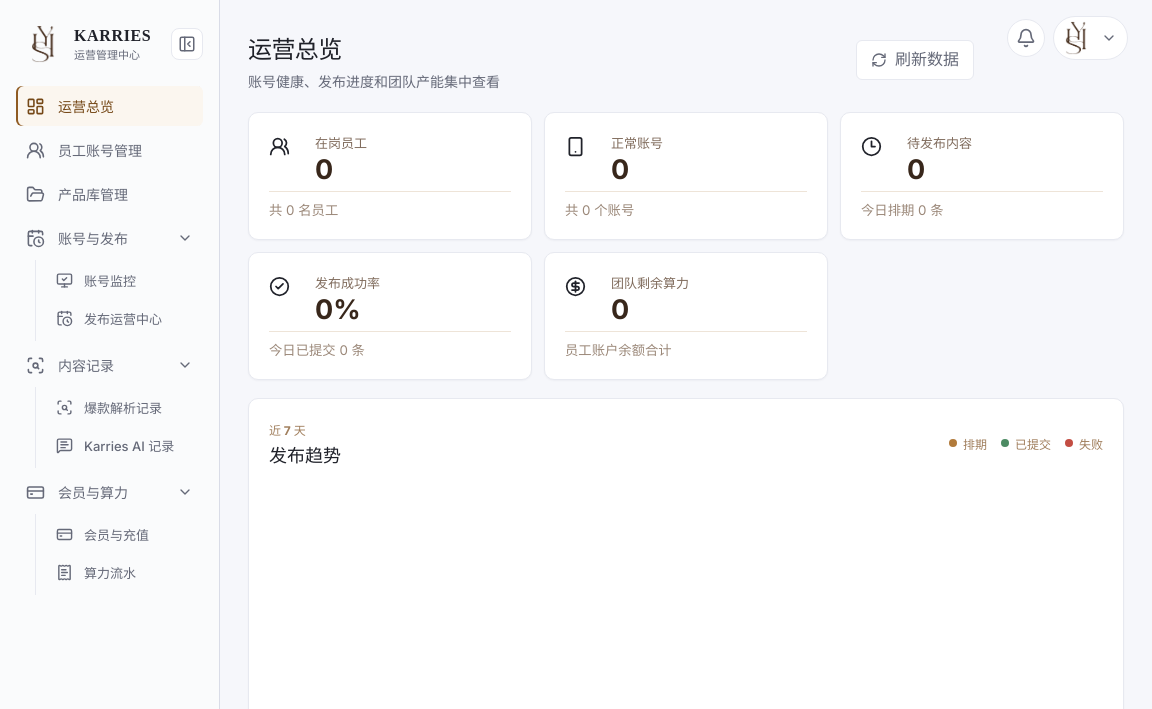
Scenario: opens billing, credit ledger and product library management
Step 1. Click the button "会员与充值" → (124, 534), box [46,516,203,552]
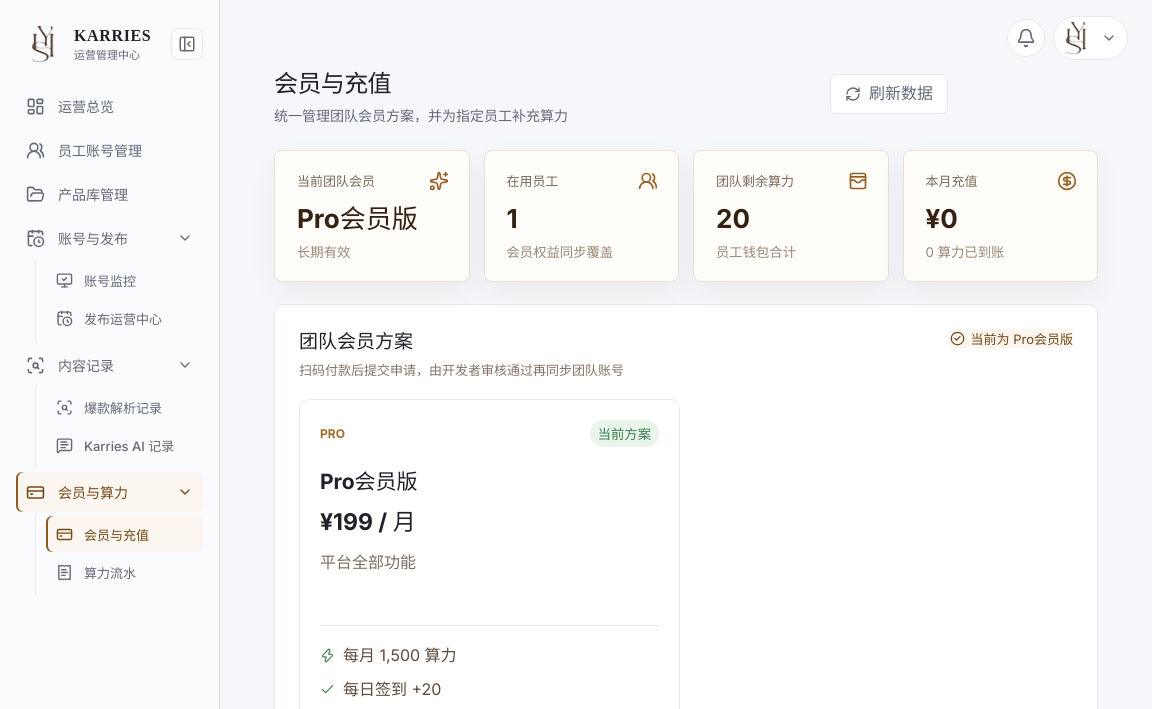
Expected: the heading "会员与充值" is shown, [274,68,391,98]
Step 2. Click the button "算力流水" → (124, 572), box [46,554,203,590]
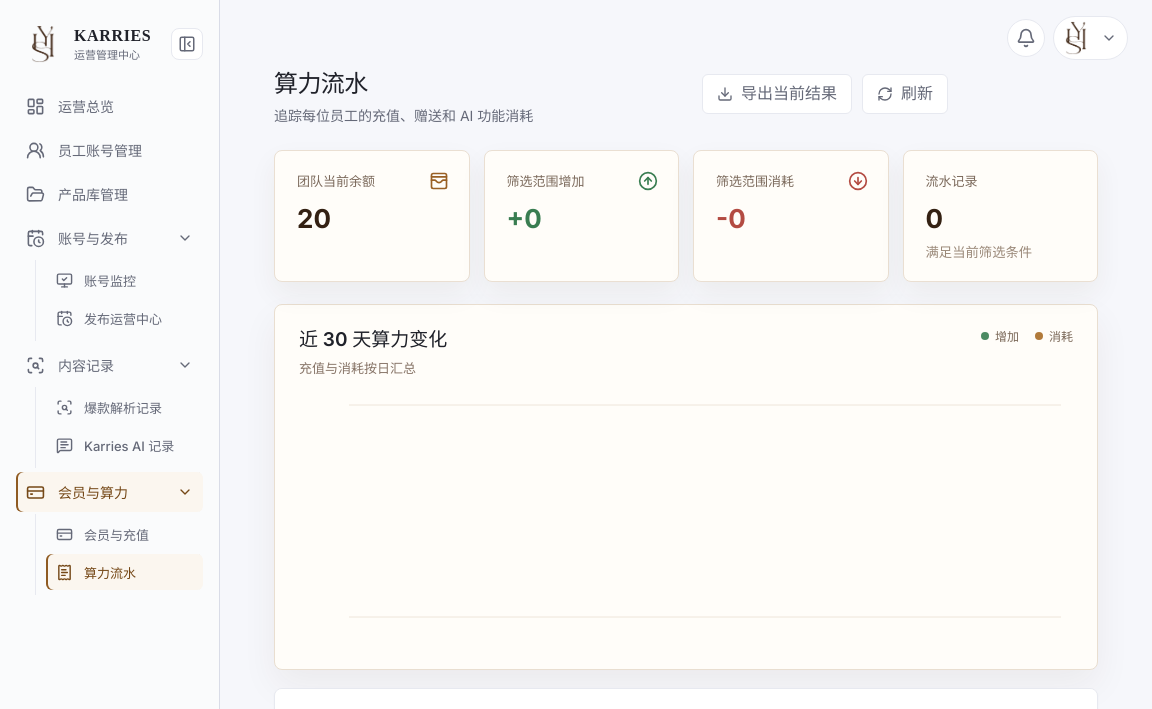
Expected: the heading "算力流水" is shown, [274,68,368,98]
Step 3. Click the button "产品库管理" → (110, 194), box [16,174,203,214]
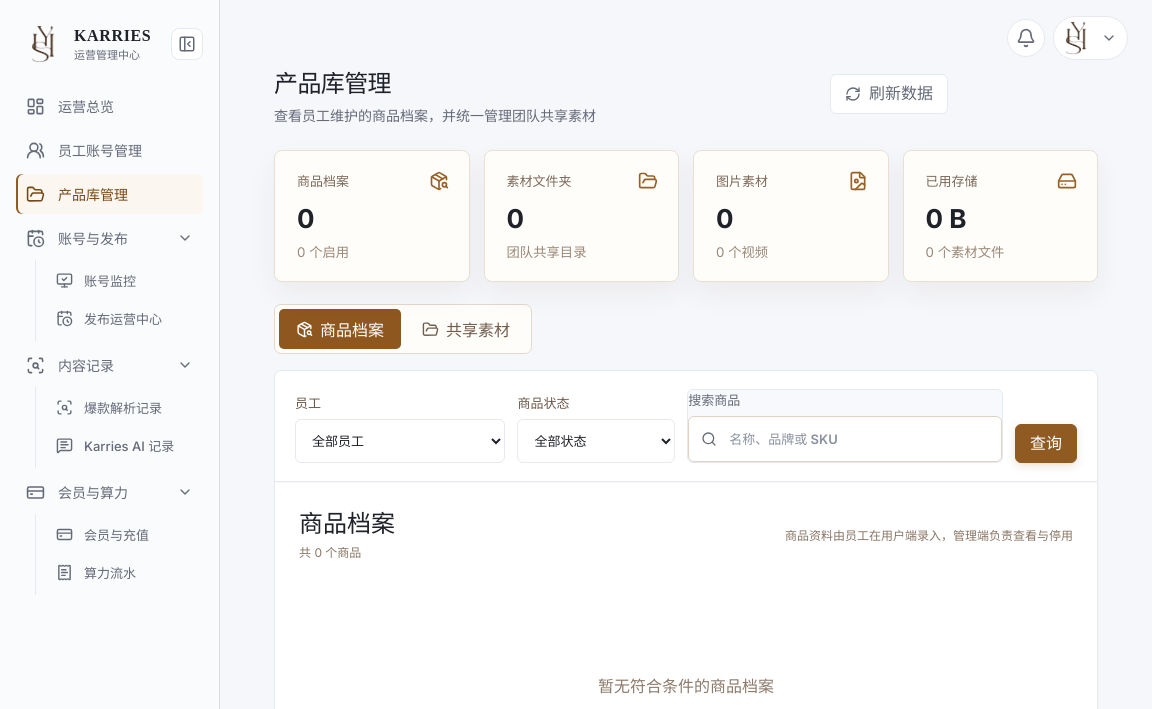
Expected: the heading "产品库管理" is shown, [274,68,391,98]
